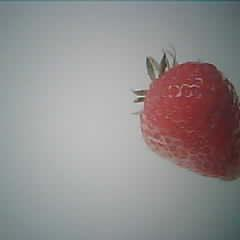straw-ripe: (142, 62, 240, 180)
